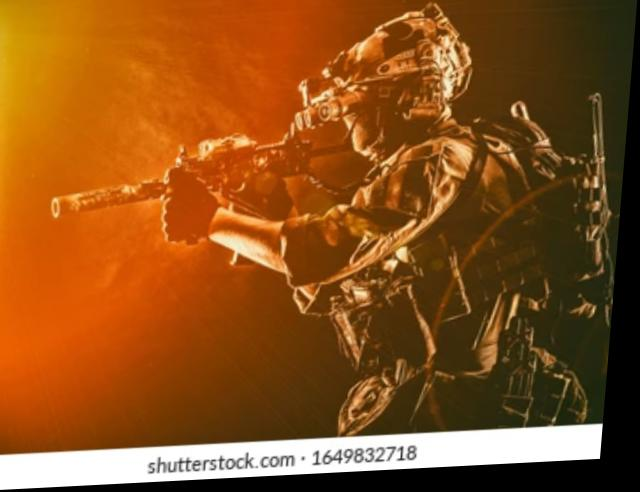other: (273, 7, 618, 429)
